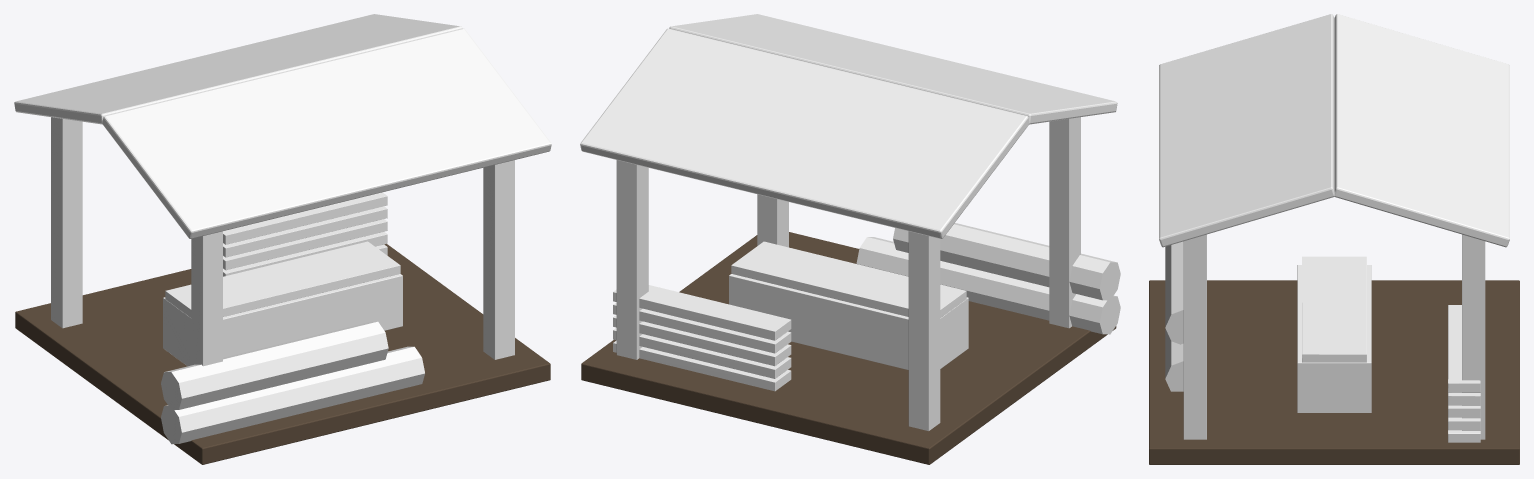
The model's file is keresteci.glb.
The picture shows the model from 3 angles, left to right: view 1: azimuth 30°, elevation 25°; view 2: azimuth 150°, elevation 25°; view 3: azimuth 270°, elevation 25°; orthographic projection.
Visible parts, largest first — view 1: Cati; view 2: Cati; view 3: Cati.
Boxes of the visible parts, x1,y1,x2,y2 form: Cati: (14,14,551,464); Cati: (580,14,1120,464); Cati: (1149,14,1519,464).
Size of the model in its own units: 1 by 0.7364 by 0.883.
